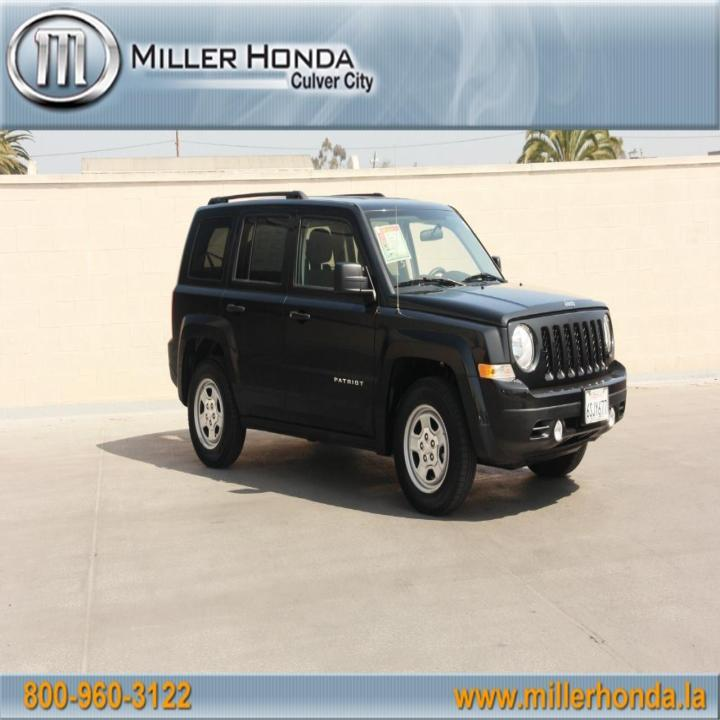car: (167, 189, 627, 517)
plat: (585, 387, 608, 423)
